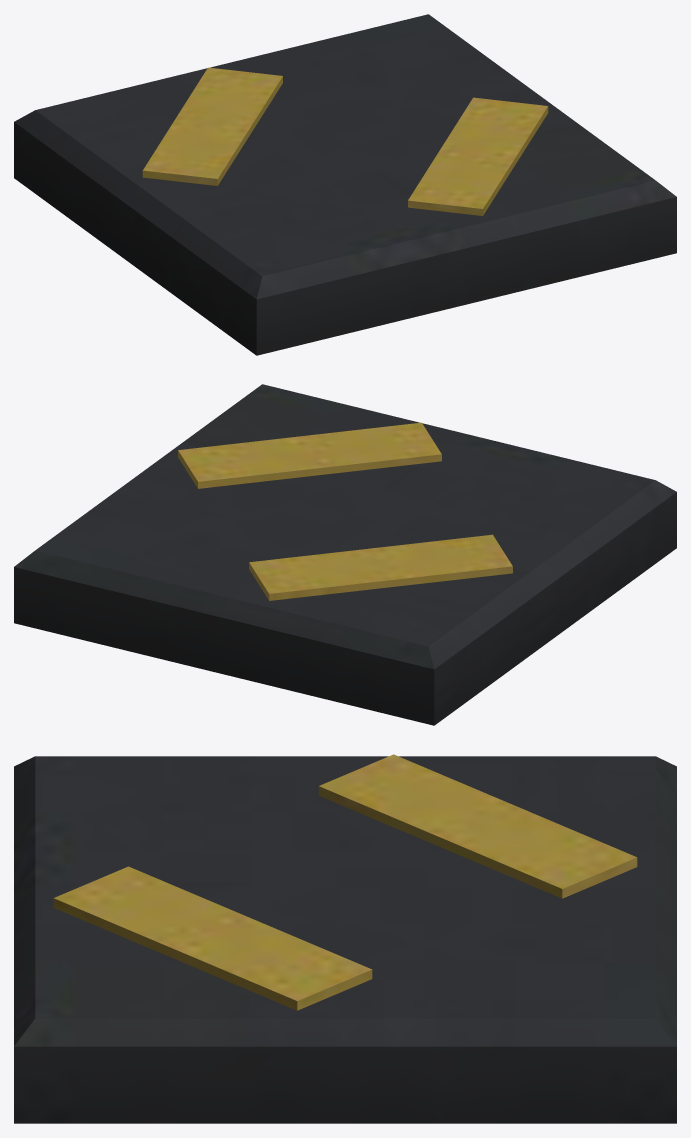
File: hazard-concrete.glb
3 views of the same model, one above another, from view 1: azimuth 30°, elevation 25°; view 2: azimuth 150°, elevation 25°; view 3: azimuth 270°, elevation 25° (orthographic). The views are drawn at different scales.
Parts seen in each view (by area): view 1: hazard-concrete; view 2: hazard-concrete; view 3: hazard-concrete.
Part boxes in pixels (left/top/right/bottom): hazard-concrete: left=14, top=14, right=676, bottom=355; hazard-concrete: left=14, top=384, right=676, bottom=725; hazard-concrete: left=14, top=754, right=676, bottom=1123.
Size of the model in its own units: 0.25 by 0.044 by 0.25.
Materials: 1 (1 with a texture image).
